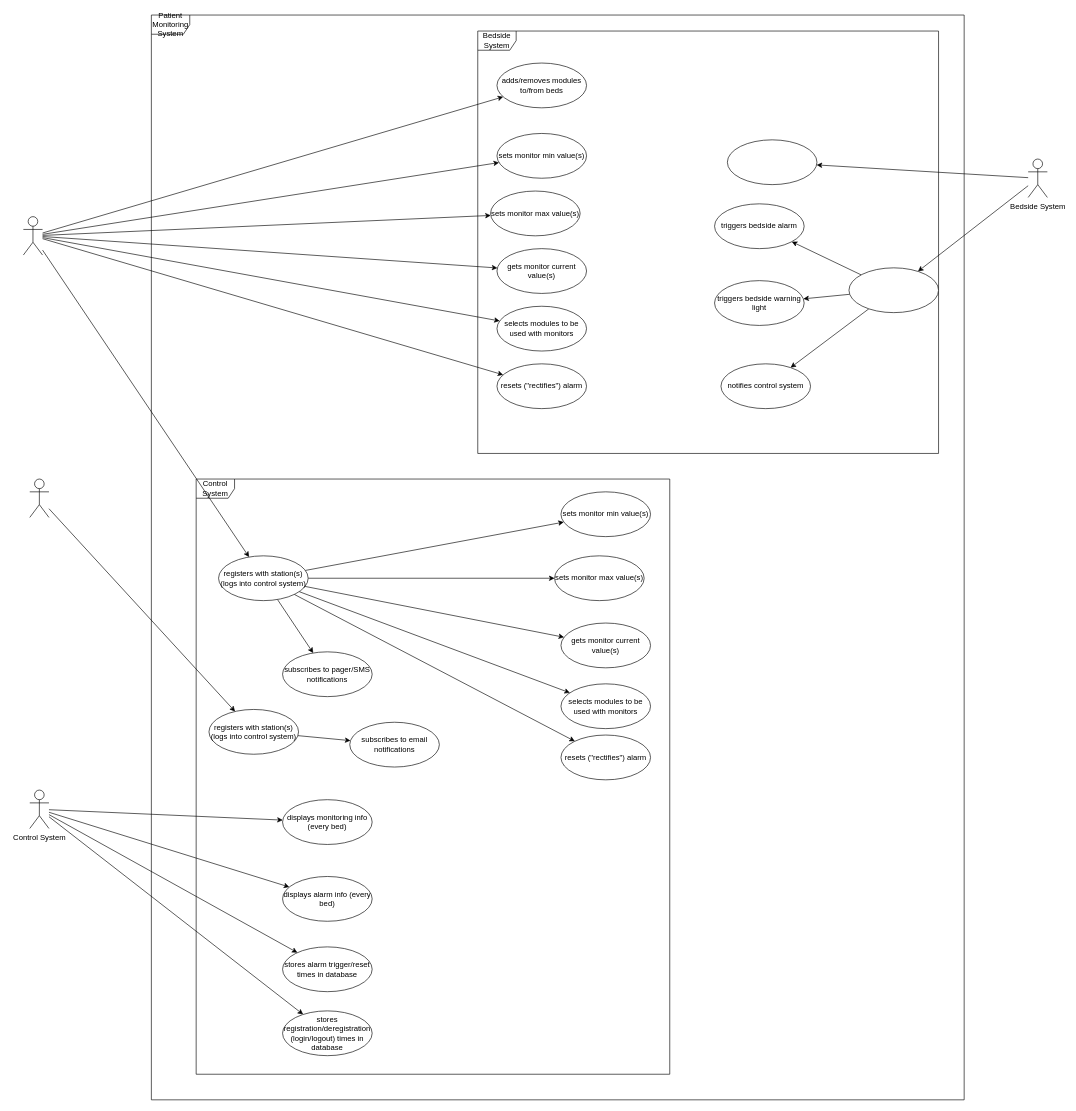
Some shapes in this 1076 by 1111 pixel diagram are drawn without their labels. The centre of each missing label's shape, as x and y in pixels:
"Consultant" belongs at point 39,497.
"detects breaches of min/max limits" belongs at point 893,290.
"Medical Staff" belongs at point 33,235.
"periodically polls monitor modules" belongs at point 772,162.
